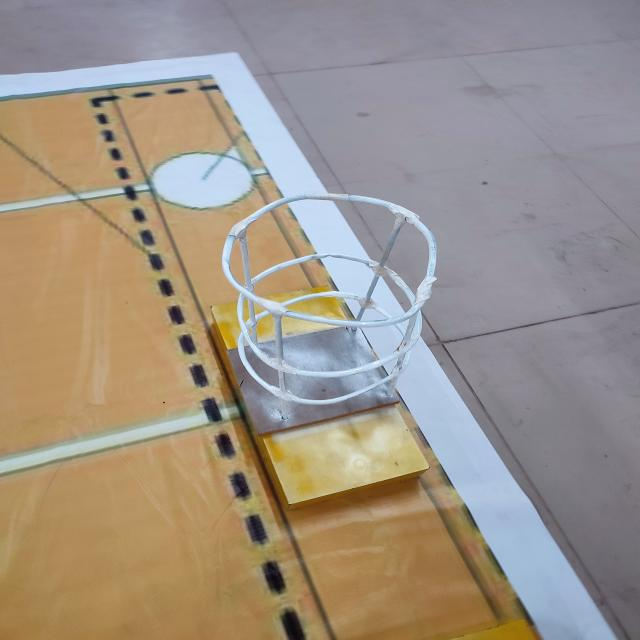silo: (180, 186, 492, 461)
